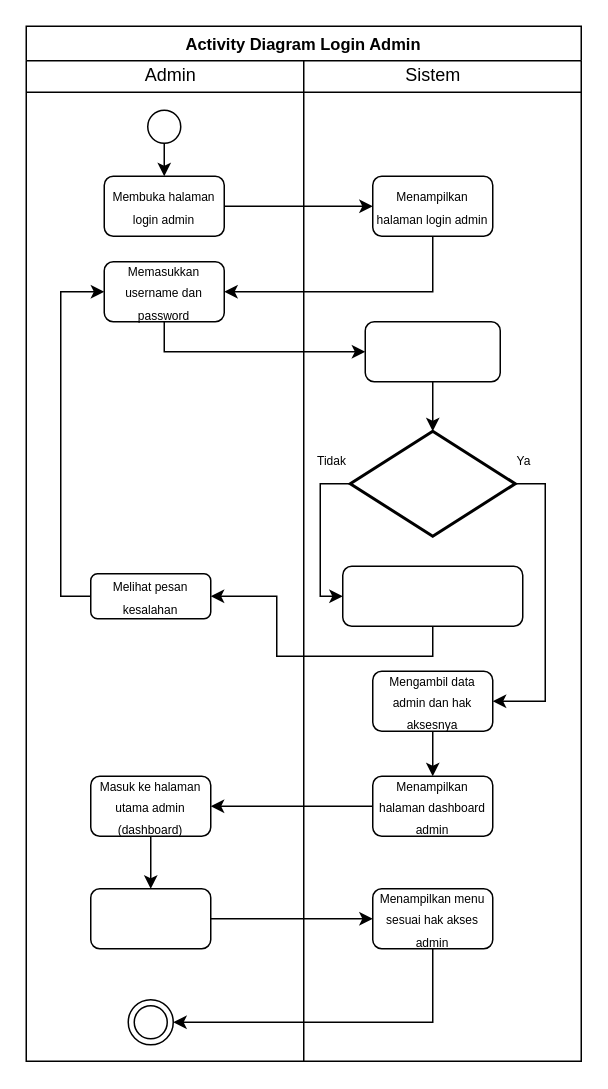
The diagram is 608 pixels wide and 1089 high, and some of its shapes have lost their labels. The shapes that lost their labels are listed below. From the top down, each one's centre as x and y in pixels, then its label:
the point at 432,351: Memvalidasi username dan password
the point at 432,483: Data login valid?
the point at 432,595: Menampilkan pesan kesalahan (username/password salah)
the point at 150,918: Melihat menu yang tersedia (sesuai hak akses)
